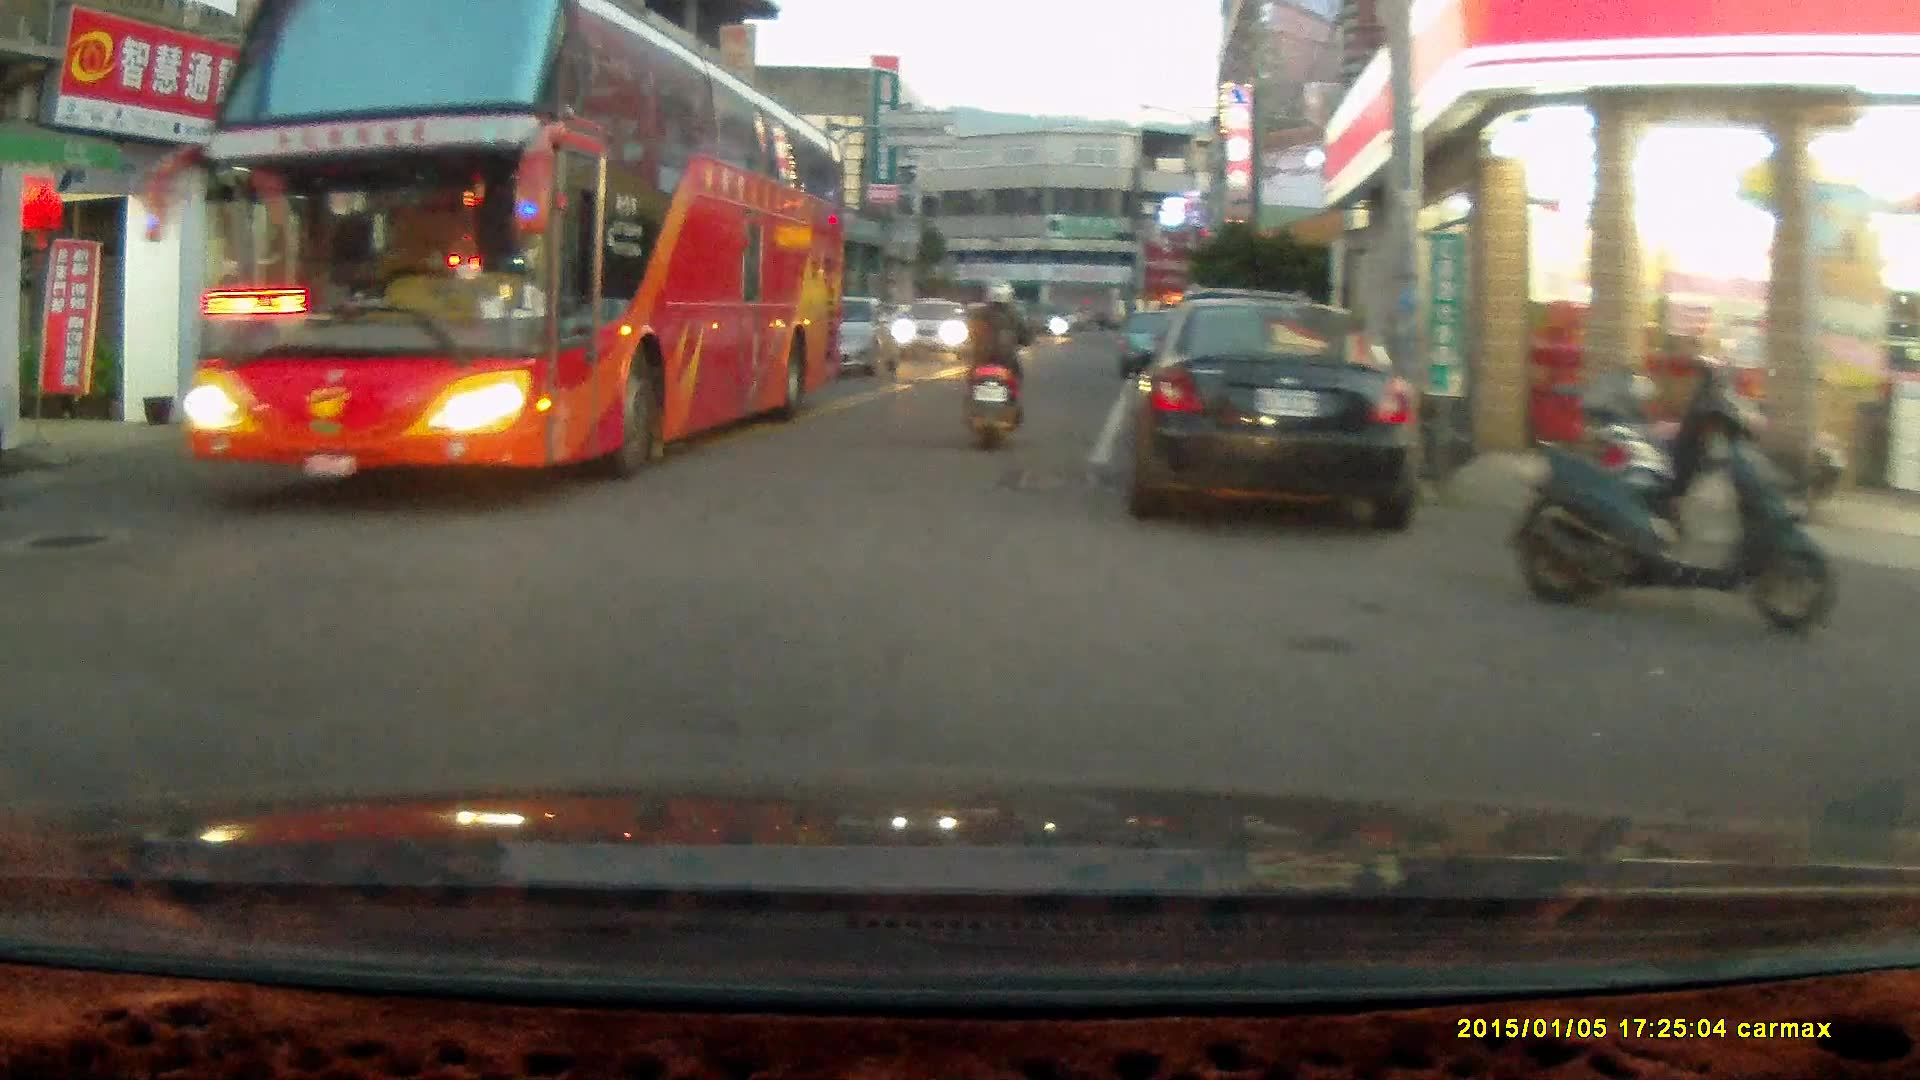rider: (953, 273, 1028, 452)
vehicle: (190, 2, 855, 492), (1105, 293, 1419, 533), (809, 295, 903, 379), (887, 295, 979, 367)
